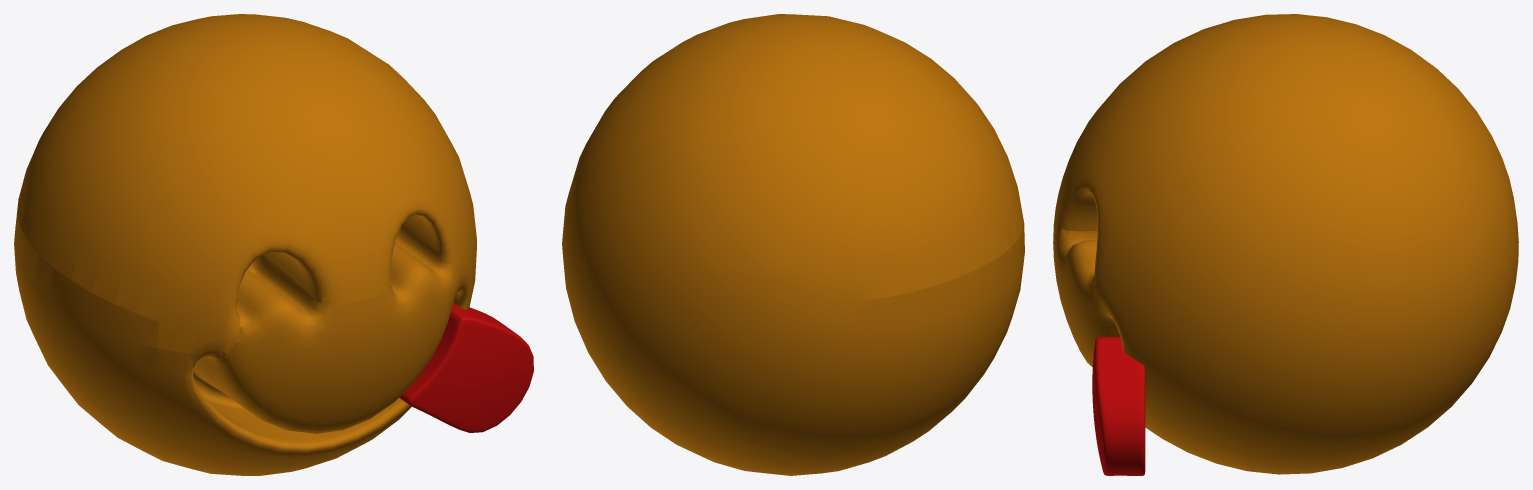
Rendered from yum.obj.
The picture shows the model from 3 angles, left to right: view 1: azimuth 30°, elevation 25°; view 2: azimuth 150°, elevation 25°; view 3: azimuth 270°, elevation 25°; orthographic projection.
Visible parts, largest first — view 1: Group46695, Group17850; view 2: Group46695; view 3: Group46695, Group17850.
Boxes of the visible parts, x1,y1,x2,y2 form: Group46695: (14,14,477,475); Group17850: (399,303,533,432); Group46695: (562,14,1024,475); Group46695: (1053,14,1518,474); Group17850: (1092,337,1145,475).
Bounding box in the file's own units: 20.69 × 20.67 × 20.93.
